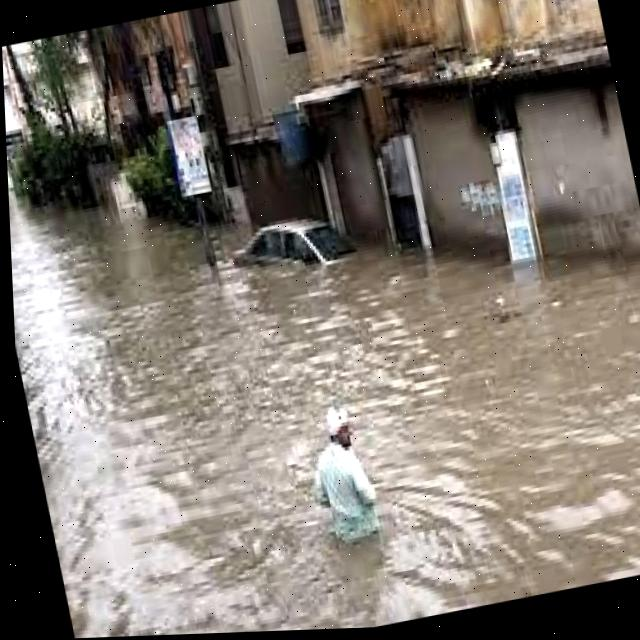civilian: (297, 397, 396, 565)
